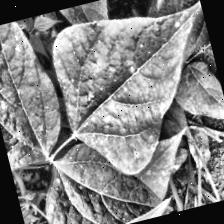Bean Rust: (44, 0, 224, 184), (26, 122, 172, 224), (0, 16, 71, 176), (27, 197, 176, 224)
